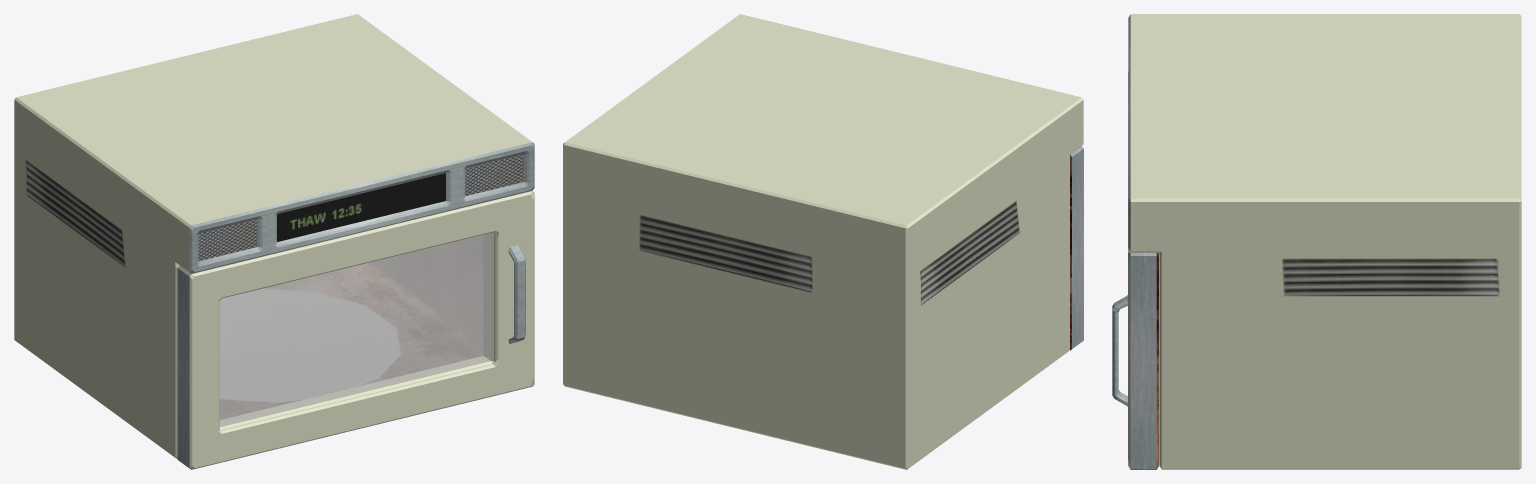
Rendered from Microwave.gltf.
3 renders of one model, left to right at view 1: azimuth 30°, elevation 25°; view 2: azimuth 150°, elevation 25°; view 3: azimuth 270°, elevation 25°, orthographic. The views are drawn at different scales.
Visible parts, largest first — view 1: Microwave, Microwave_door; view 2: Microwave, Microwave_door; view 3: Microwave, Microwave_door.
Boxes of the visible parts, box(x1,y1,x2,y2) form: Microwave: box(14, 14, 534, 459); Microwave_door: box(177, 190, 534, 469); Microwave: box(563, 14, 1083, 469); Microwave_door: box(1070, 146, 1083, 350); Microwave: box(1128, 14, 1521, 469); Microwave_door: box(1112, 72, 1158, 469).
Bounding box in the file's own units: 0.9241 × 0.6254 × 0.8553.
3 materials, 2 textured.
